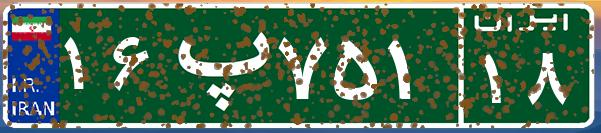1: (385, 28, 445, 110), (57, 26, 110, 107), (475, 38, 525, 113)
5: (330, 28, 385, 110)
6: (110, 28, 158, 105)
7: (273, 28, 330, 110)
8: (525, 38, 570, 115)
پ: (158, 15, 273, 115)
